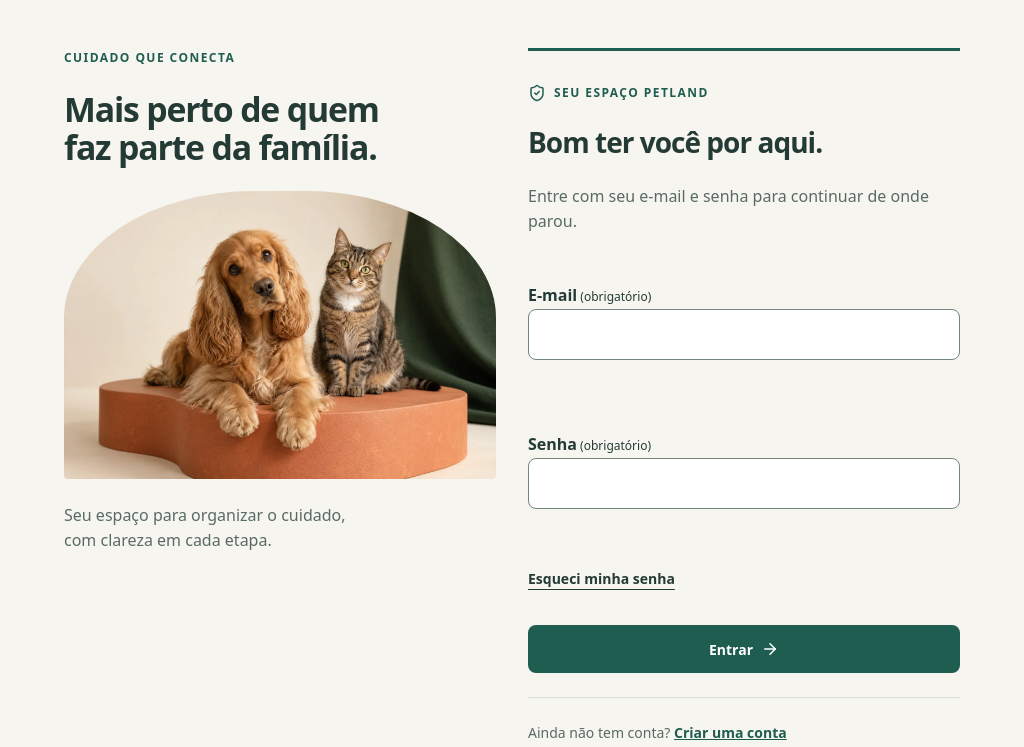
Test: identity forms › keeps password spaces and shows the safe server error without losing the email
Step 1. Type "pessoa@example.com" into the field labelled "E-mail (obrigatório)" → (744, 334), box x1=528 y1=309 x2=960 y2=360
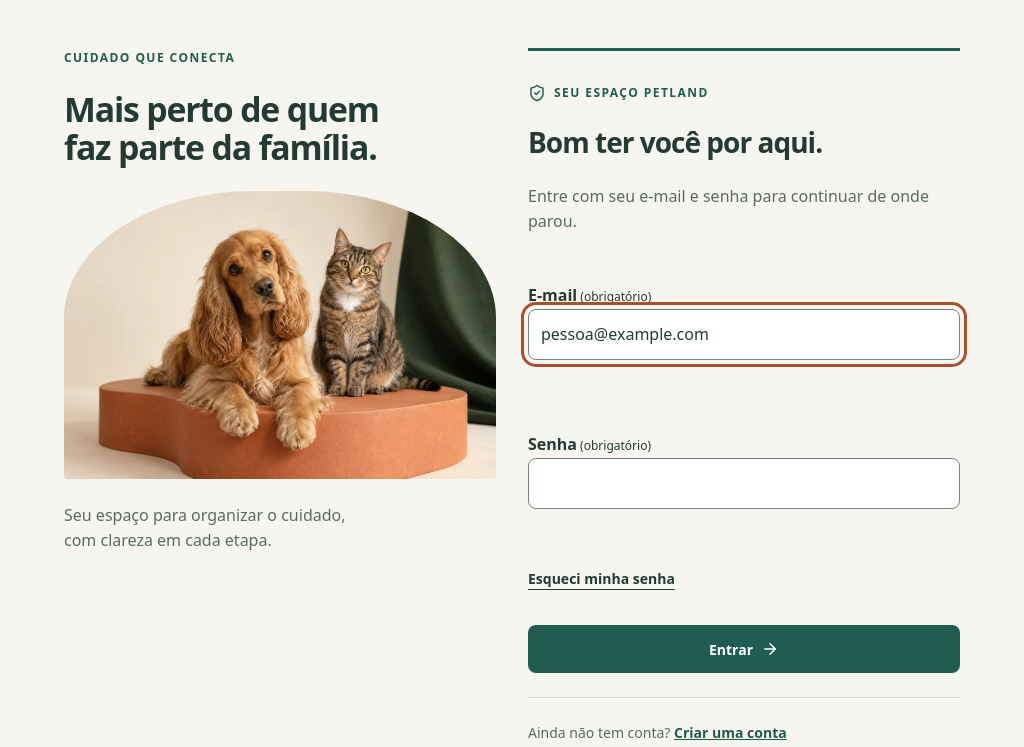
Step 2. Type "  senha com espaços  " into the password field labelled "Senha (obrigatório)" → (744, 484), box x1=528 y1=458 x2=960 y2=509
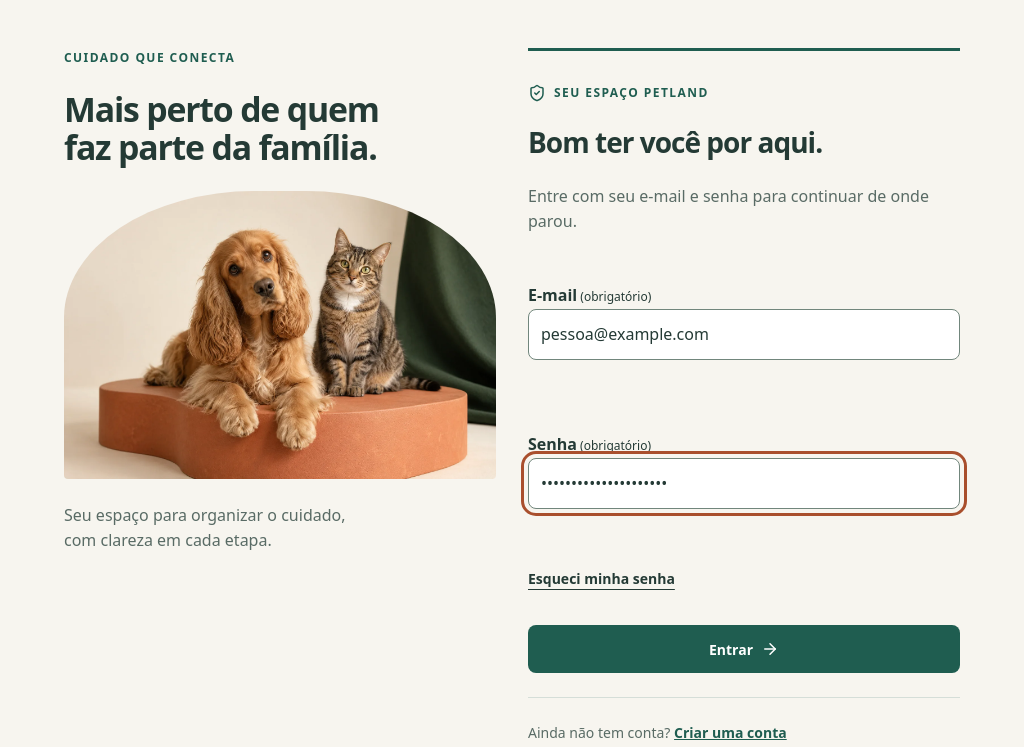
Step 3. Click the button "Entrar" → (744, 649), box x1=528 y1=625 x2=960 y2=673
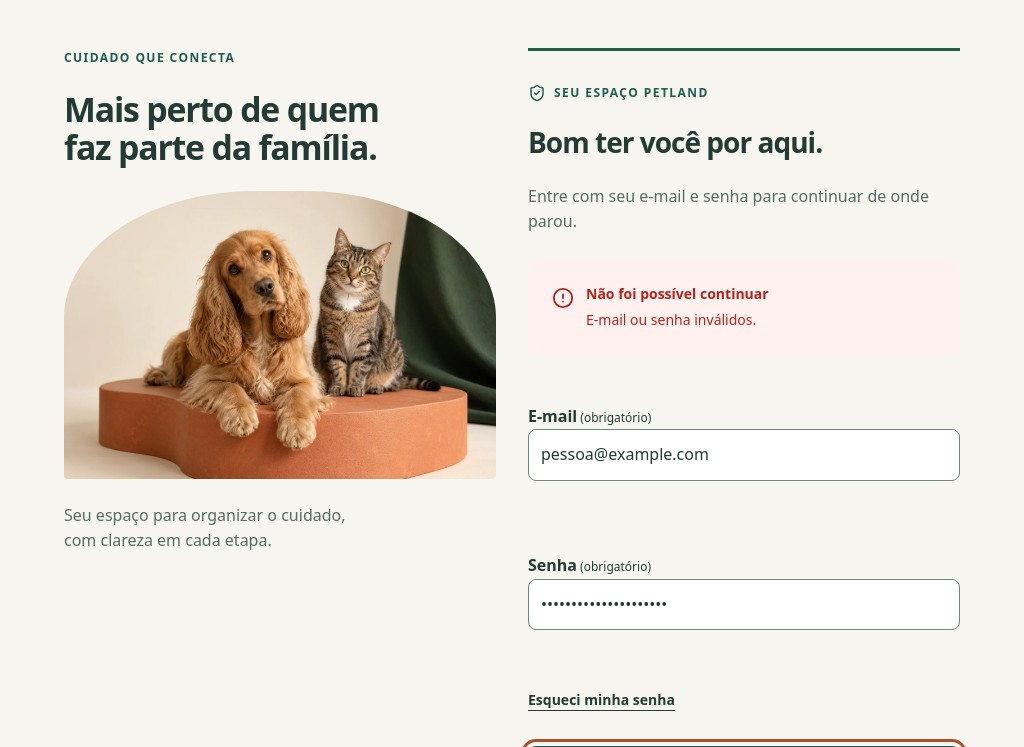
Expected: the text "E-mail ou senha inválidos." is shown, x1=586 y1=309 x2=769 y2=332
